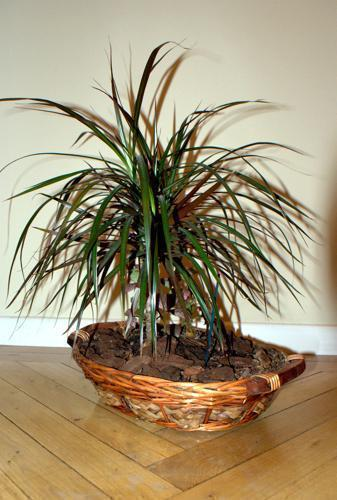Matera: (6, 54, 328, 431)
